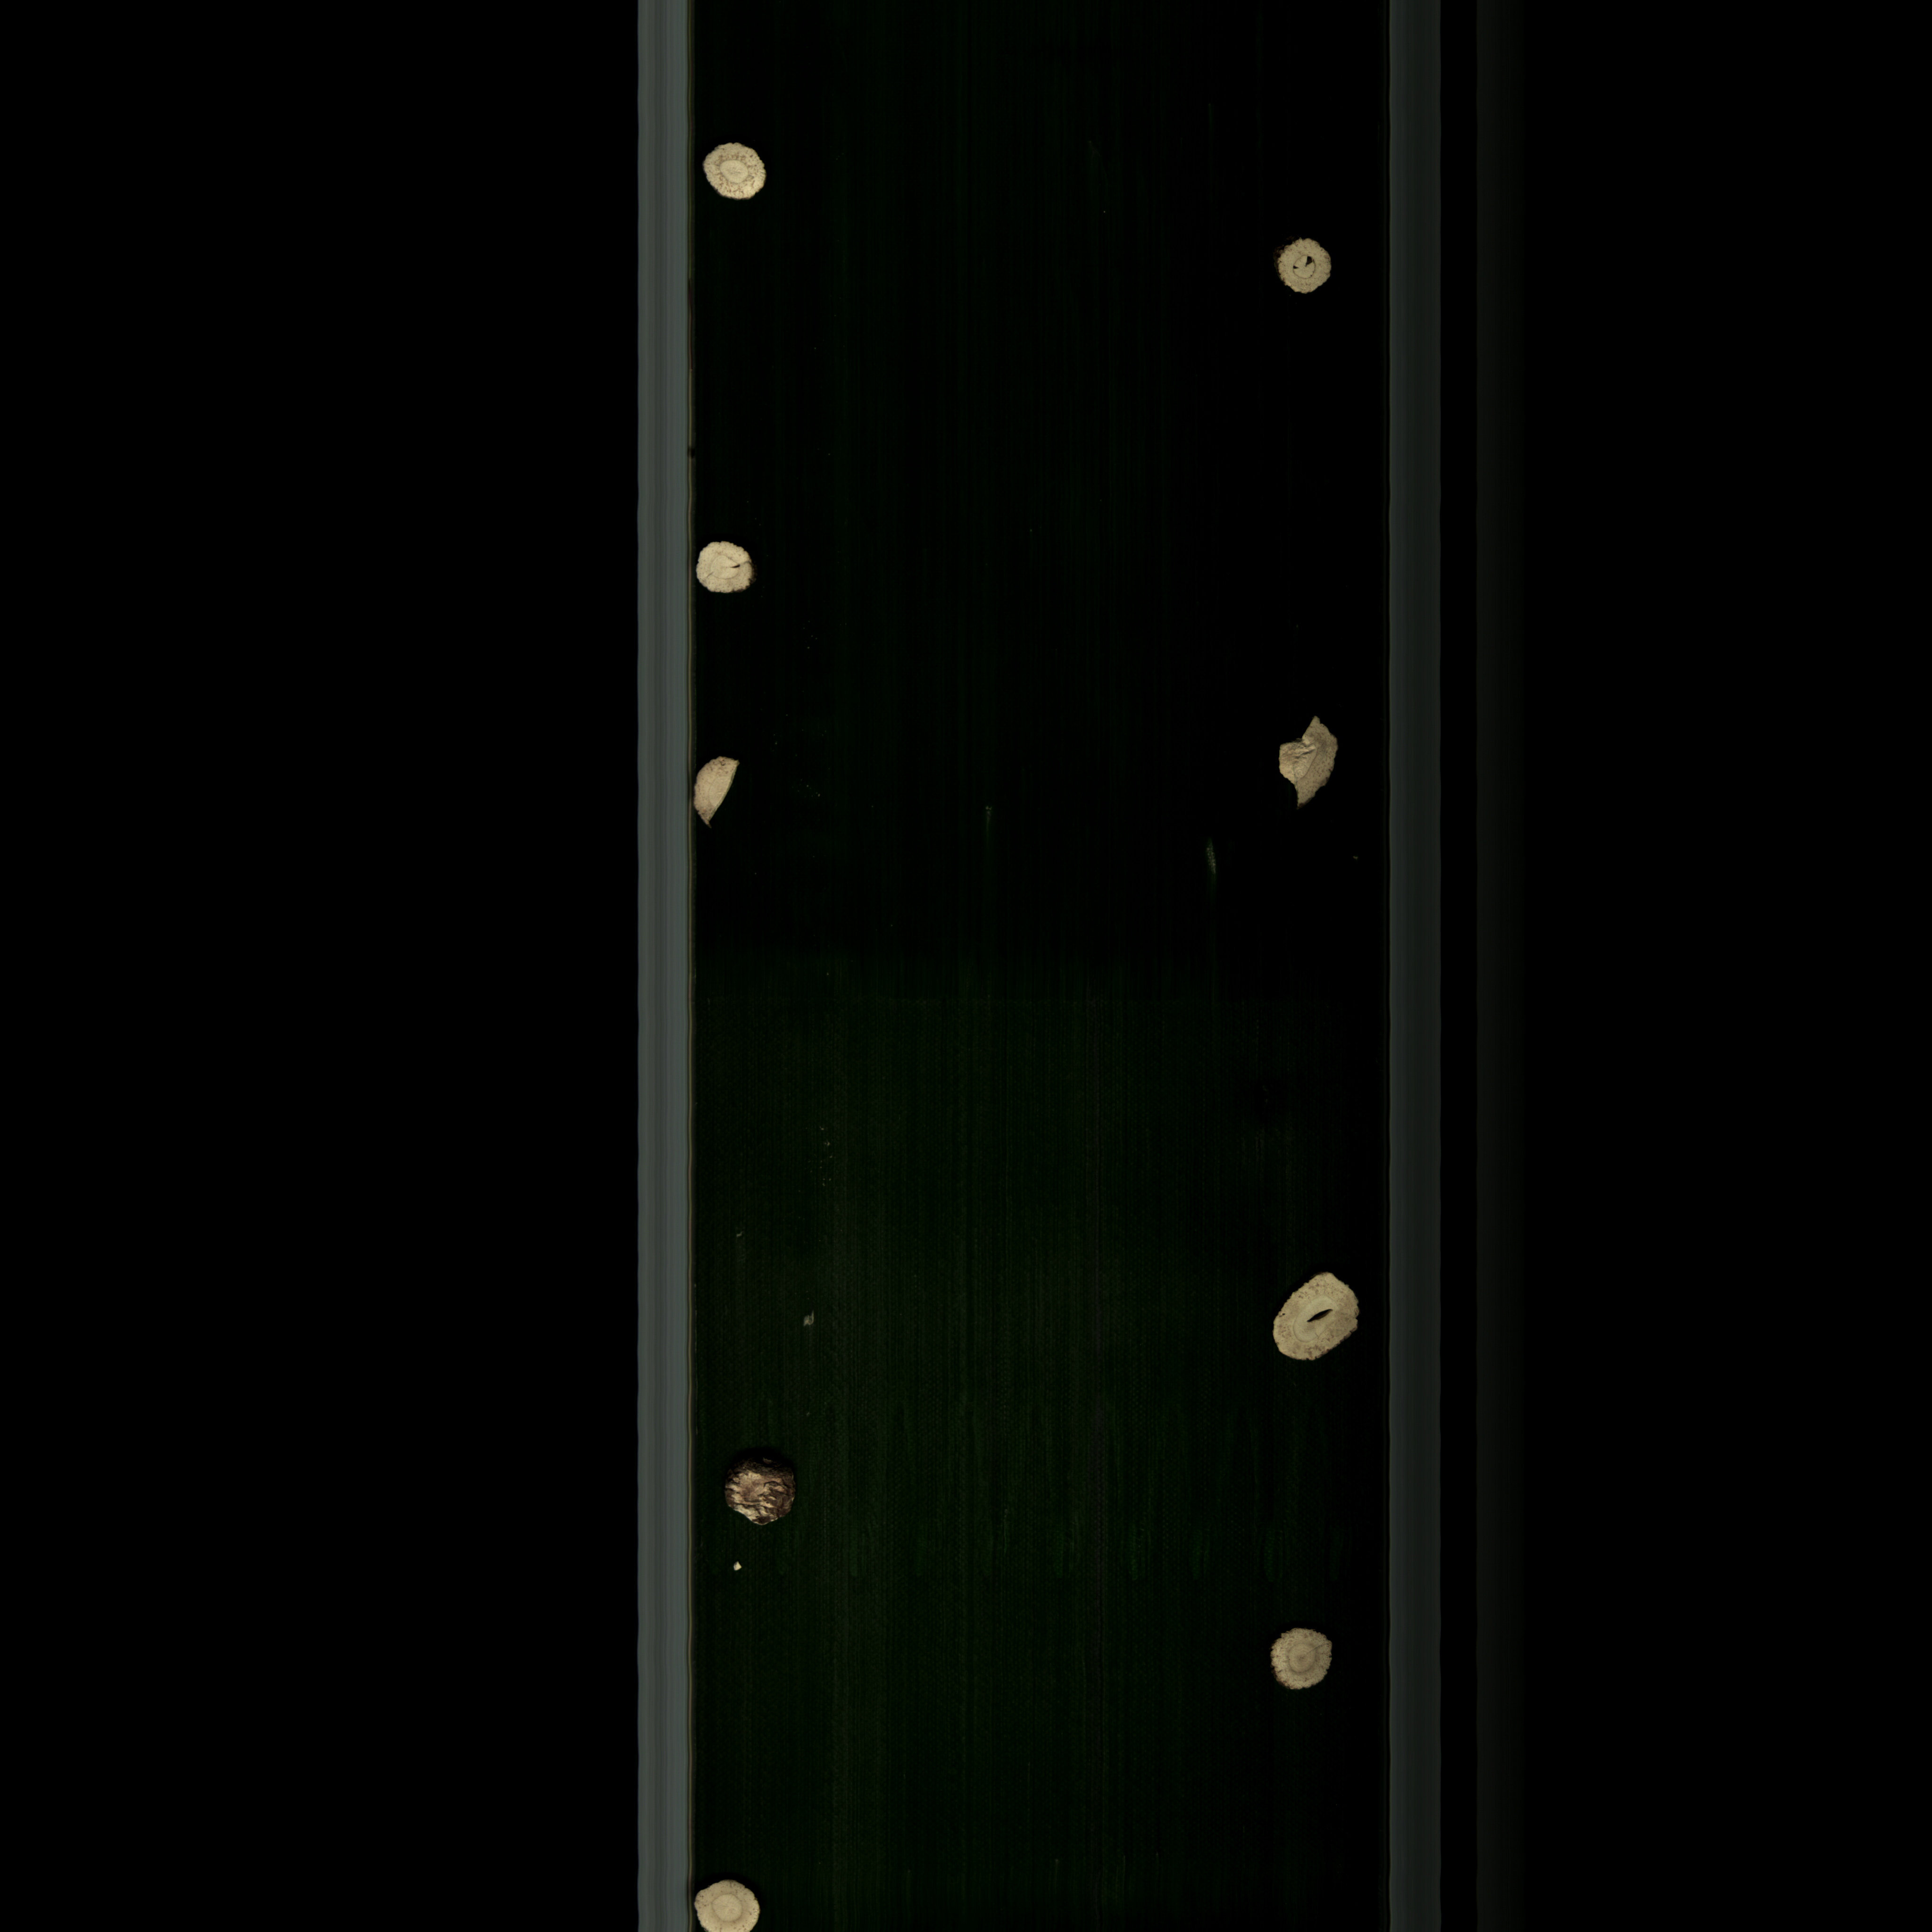bark: (720, 1461, 796, 1532)
debris: (1270, 713, 1348, 819), (695, 750, 747, 832)
hole: (1269, 1261, 1366, 1369), (1265, 232, 1341, 303), (695, 531, 766, 607)
